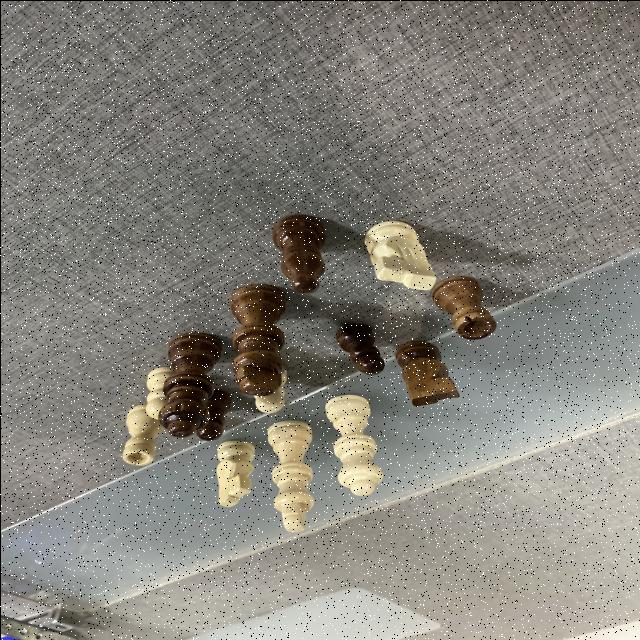Black-Bishop: (271, 212, 327, 293)
Black-King: (226, 282, 286, 396)
Black-Knight: (392, 339, 458, 406)
Black-Pawn: (333, 322, 385, 376), (199, 388, 232, 440)
Black-Queen: (154, 330, 220, 437)
Black-Rook: (428, 275, 496, 339)
White-King: (268, 418, 312, 534)
White-Knight: (361, 218, 438, 290), (213, 438, 255, 508)
White-Pawn: (146, 364, 169, 418), (250, 394, 285, 414)
White-Queen: (321, 392, 383, 496)
White-Rook: (118, 402, 161, 467)
